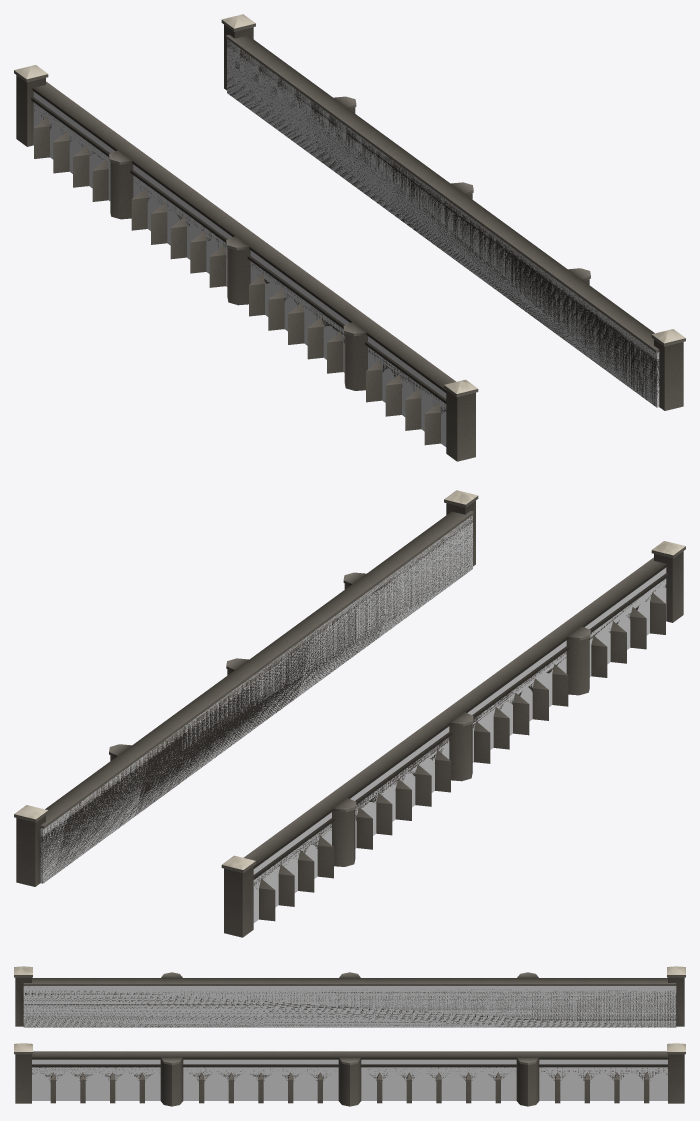
File: puranapul_arches.glb
3 renders of one model, top to bottom at view 1: azimuth 30°, elevation 25°; view 2: azimuth 150°, elevation 25°; view 3: azimuth 270°, elevation 25°, orthographic. The views are drawn at different scales.
Visible parts, largest first — view 1: puranapul_arches_body, COL_puranapul_arches; view 2: puranapul_arches_body, COL_puranapul_arches; view 3: COL_puranapul_arches, puranapul_arches_body.
Boxes of the visible parts, x1,y1,x2,y2 form: puranapul_arches_body: [14, 14, 685, 461]; COL_puranapul_arches: [33, 39, 659, 446]; puranapul_arches_body: [14, 490, 685, 937]; COL_puranapul_arches: [40, 515, 666, 922]; COL_puranapul_arches: [23, 986, 676, 1100]; puranapul_arches_body: [14, 966, 685, 1106].
Bounding box in the file's own units: 49.48 × 14.4 × 154.
3 materials, 3 textured.
